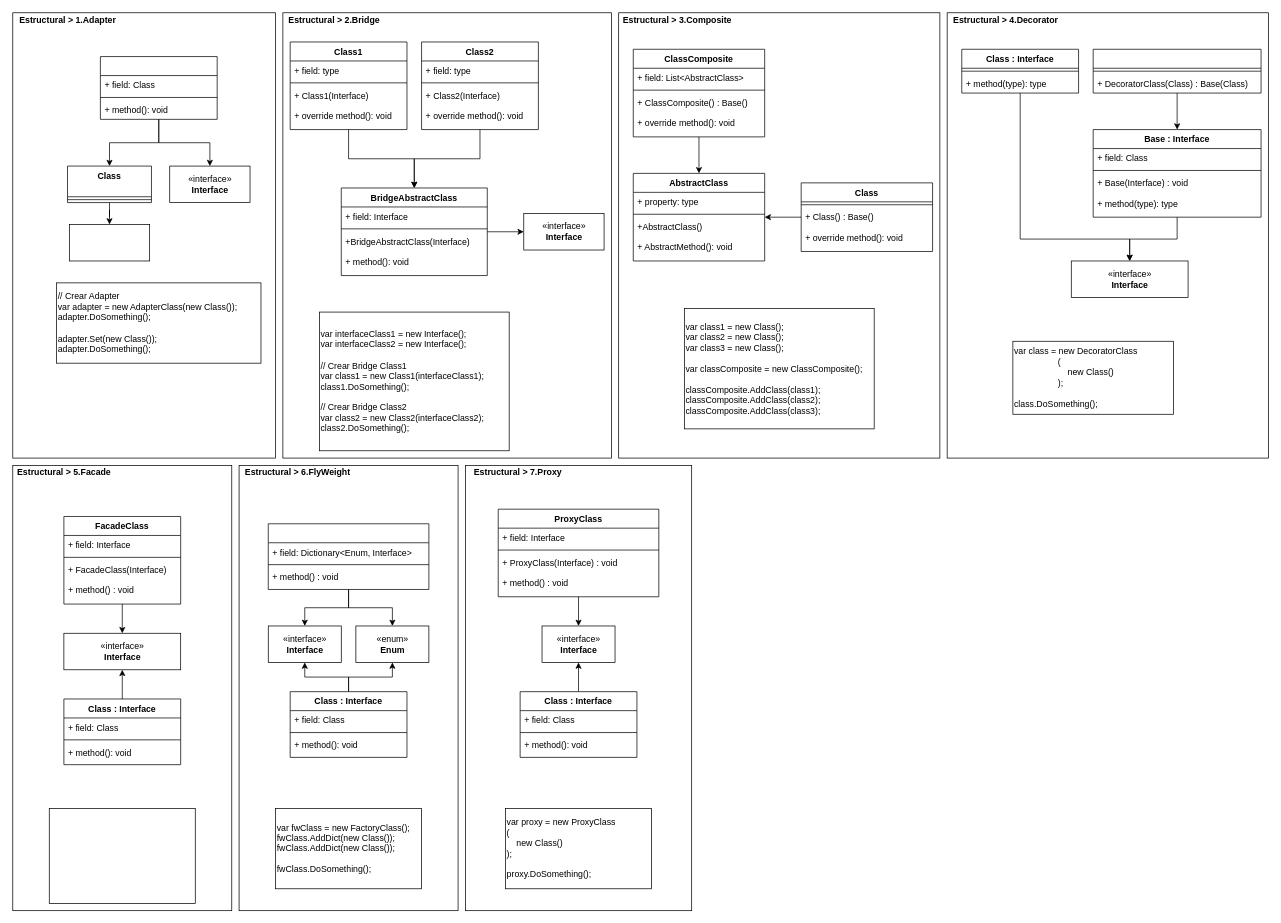
Image size: 1281x923. Some labels were removed from this diagram. Each missing label, with the box of its shape:
AdapterClass : Interface: (100, 56, 217, 119)
DecoratorClass : Base: (1092, 49, 1261, 93)
Enum: (69, 224, 150, 261)
FactoryClass: (268, 523, 429, 589)
var facade = new FacadeClass ( new Class() ); facade.DoSomething();: (49, 808, 195, 903)
